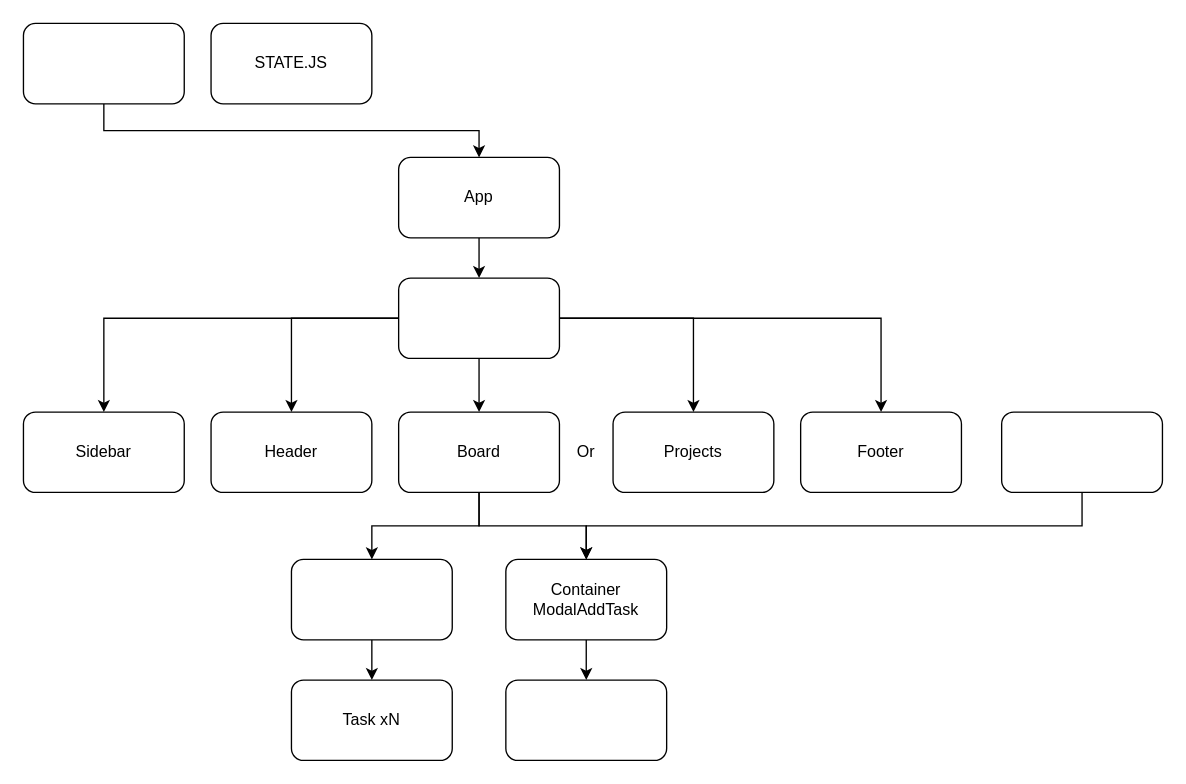
The diagram is 1186 pixels wide and 784 high, and some of its shapes have lost their labels. Here are the shapes that lost their labels. From the top down, the centre of each, then its label:
At point (103, 63): "INDEX.JS".
At point (478, 317): "BrowserRouter".
At point (1081, 451): "Modal".
At point (371, 599): "Column x4".
At point (586, 719): "ModalAddTask".
